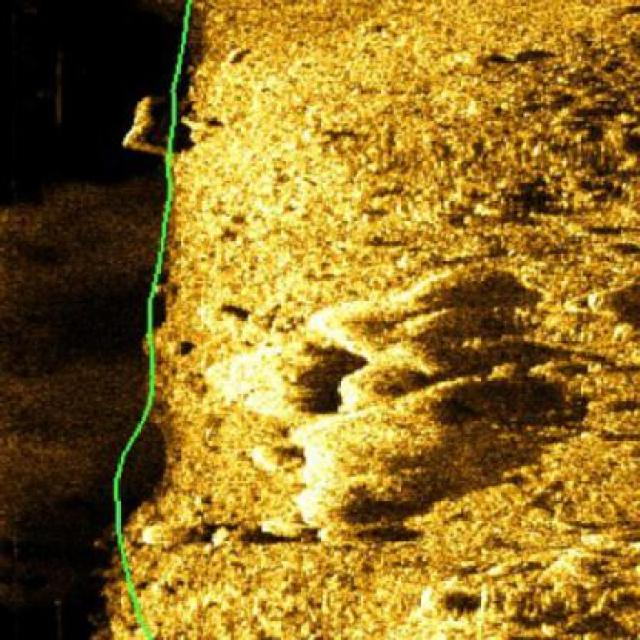bedrock group: (201, 271, 513, 537)
